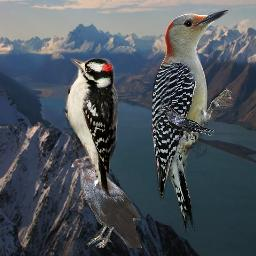Crow: (71, 155, 142, 248), (158, 106, 216, 141)
Woodpecker: (152, 4, 235, 240), (63, 58, 118, 197)
